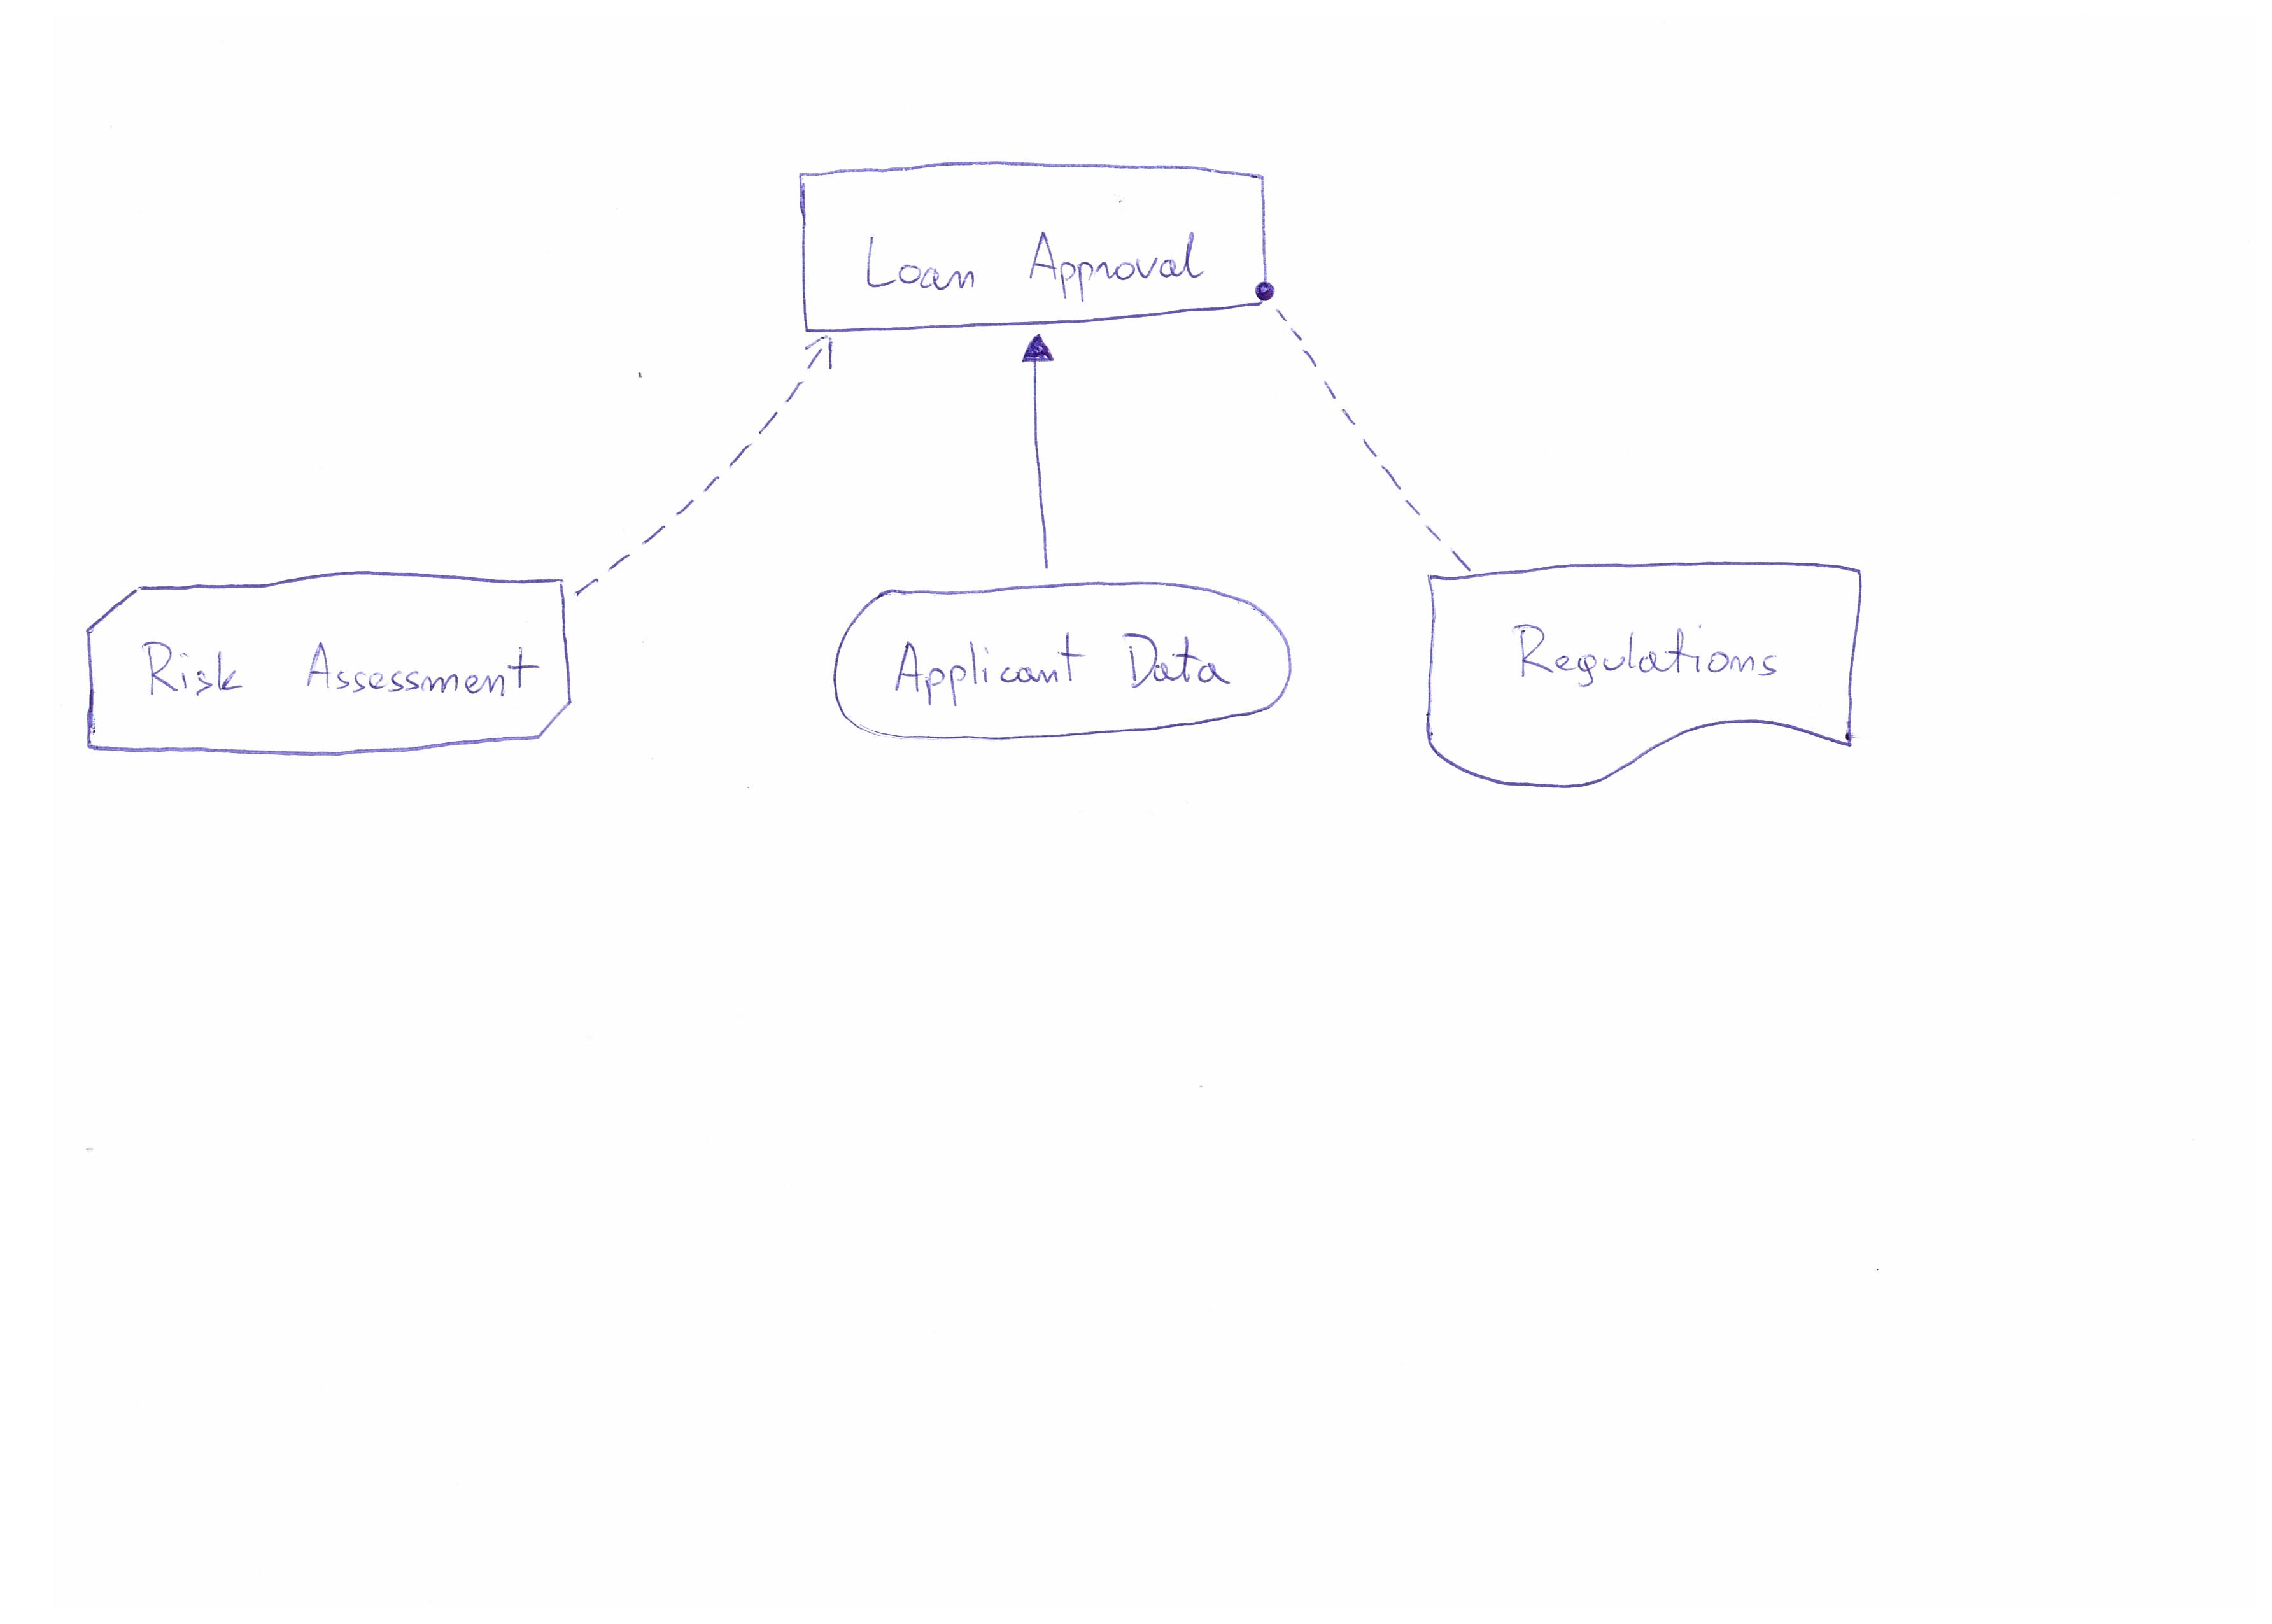arrow_authority_requirement: (1249, 274, 1488, 576)
arrow_information_requirement: (995, 330, 1098, 575)
arrow_knowledge_requirement: (569, 332, 850, 612)
node_decision: (791, 158, 1277, 336)
node_input_data: (821, 575, 1321, 763)
node_knowledge_model: (76, 566, 576, 765)
node_knowledge_source: (1422, 561, 1892, 805)
text: (132, 626, 541, 719), (880, 619, 1241, 710), (1490, 608, 1801, 707), (852, 223, 1214, 304)
